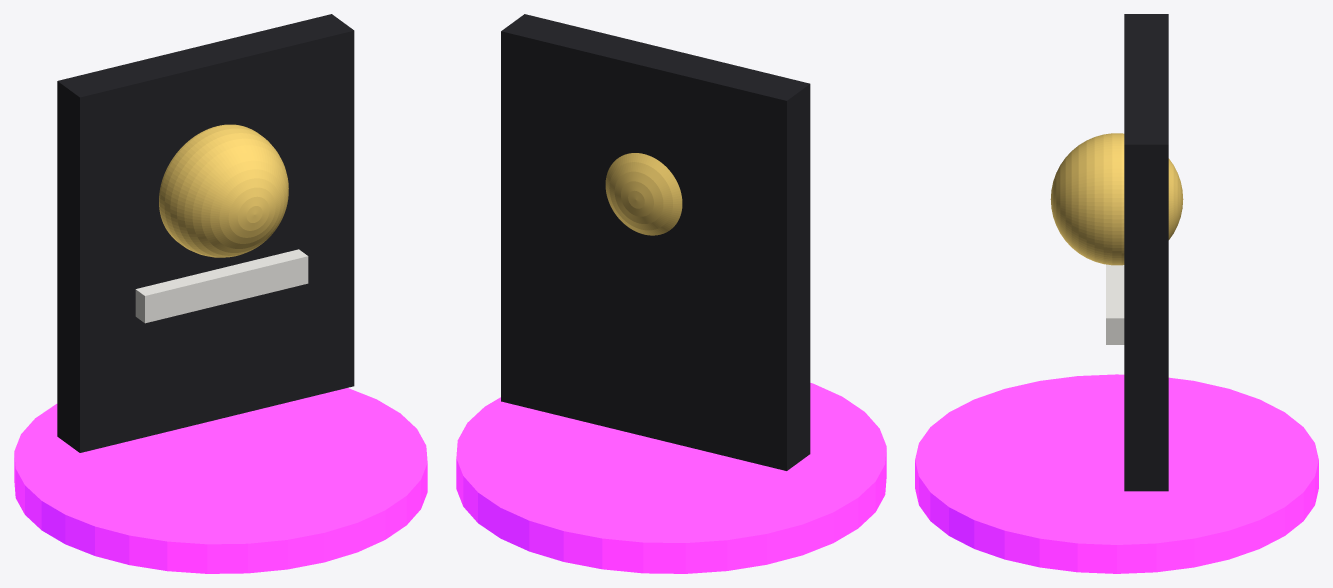
File: modelling_agency_badge.glb
3 views of the same model, side by side, from view 1: azimuth 30°, elevation 25°; view 2: azimuth 150°, elevation 25°; view 3: azimuth 270°, elevation 25° (orthographic). The views are drawn at different scales.
Parts seen in each view (by area): view 1: 05_11_Popular_Modelling_Agency_Badge_part_01, 05_11_Popular_Modelling_Agency_Badge_ROOT_base, 05_11_Popular_Modelling_Agency_Badge_part_02, 05_11_Popular_Modelling_Agency_Badge_part_03; view 2: 05_11_Popular_Modelling_Agency_Badge_part_01, 05_11_Popular_Modelling_Agency_Badge_ROOT_base, 05_11_Popular_Modelling_Agency_Badge_part_02; view 3: 05_11_Popular_Modelling_Agency_Badge_ROOT_base, 05_11_Popular_Modelling_Agency_Badge_part_01, 05_11_Popular_Modelling_Agency_Badge_part_02, 05_11_Popular_Modelling_Agency_Badge_part_03.
Boxes of the visible parts, <box> form: 05_11_Popular_Modelling_Agency_Badge_part_01: <box>57,14,354,452</box>; 05_11_Popular_Modelling_Agency_Badge_ROOT_base: <box>14,388,427,573</box>; 05_11_Popular_Modelling_Agency_Badge_part_02: <box>159,124,288,257</box>; 05_11_Popular_Modelling_Agency_Badge_part_03: <box>135,249,308,323</box>; 05_11_Popular_Modelling_Agency_Badge_part_01: <box>501,14,810,470</box>; 05_11_Popular_Modelling_Agency_Badge_ROOT_base: <box>456,383,886,573</box>; 05_11_Popular_Modelling_Agency_Badge_part_02: <box>605,153,682,235</box>; 05_11_Popular_Modelling_Agency_Badge_ROOT_base: <box>915,374,1318,573</box>; 05_11_Popular_Modelling_Agency_Badge_part_01: <box>1124,14,1168,491</box>; 05_11_Popular_Modelling_Agency_Badge_part_02: <box>1050,133,1183,265</box>; 05_11_Popular_Modelling_Agency_Badge_part_03: <box>1106,264,1124,344</box>.
Size of the model in its own units: 0.76 by 0.85 by 0.76.
